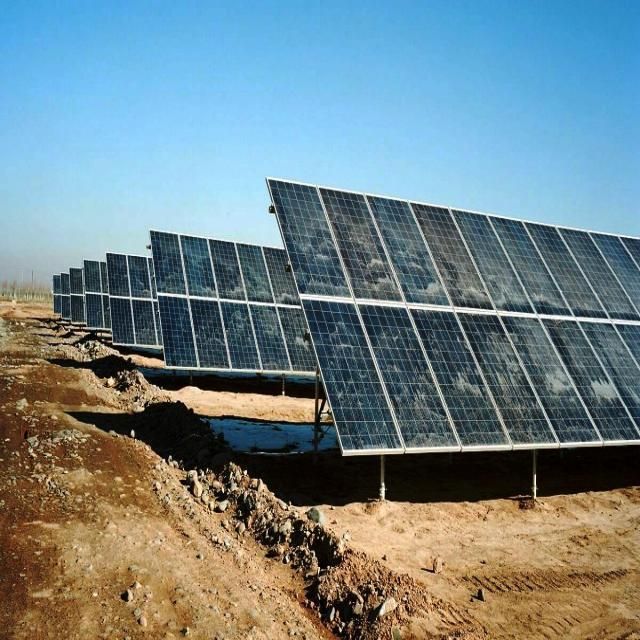faulty: (180, 352, 344, 462), (182, 306, 342, 398), (189, 406, 330, 510), (195, 460, 333, 564), (328, 364, 450, 457), (338, 267, 460, 355), (336, 323, 449, 406), (324, 448, 426, 534), (264, 189, 344, 233), (346, 181, 417, 222), (344, 150, 418, 188), (270, 157, 336, 195)
